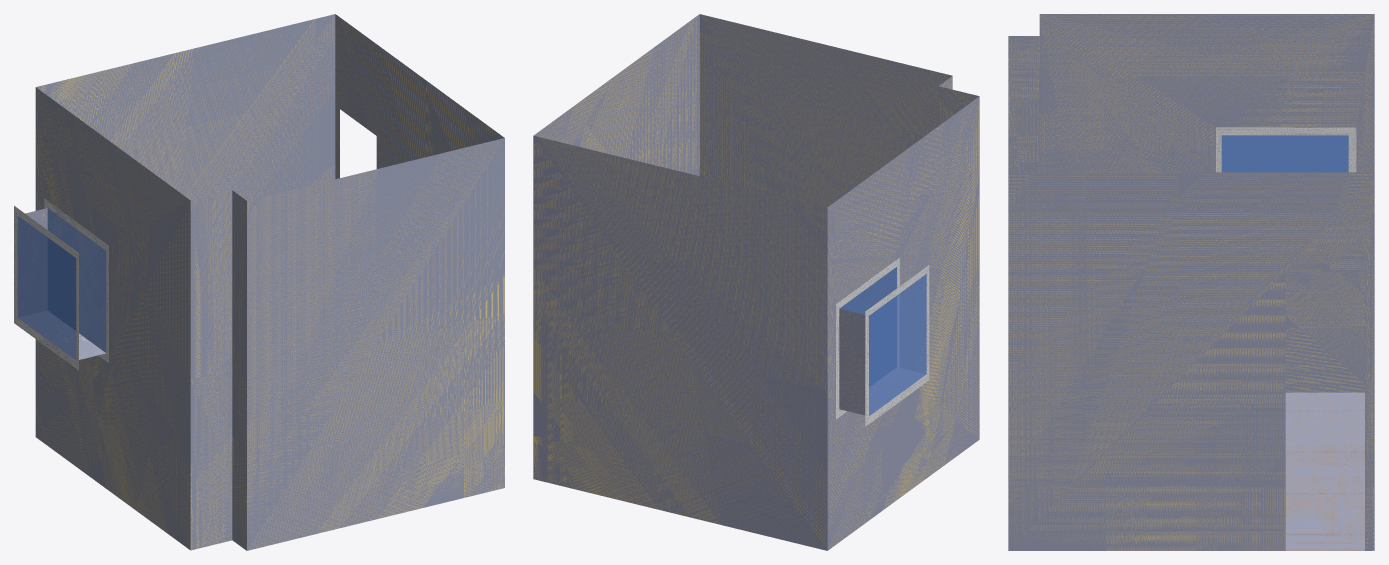
Rendered from DES043.obj.
The picture shows the model from 3 angles, left to right: view 1: azimuth 30°, elevation 25°; view 2: azimuth 150°, elevation 25°; view 3: azimuth 270°, elevation 25°; orthographic projection. The views are drawn at different scales.
Visible parts, largest first — view 1: Mesh5 DES043 Model, Mesh1 Group1 DES043 Model; view 2: Mesh5 DES043 Model, Mesh1 Group1 DES043 Model; view 3: Mesh5 DES043 Model, Mesh1 Group1 DES043 Model.
Boxes of the visible parts, left/top/right/bottom form: Mesh5 DES043 Model: left=35, top=14, right=504, bottom=550; Mesh1 Group1 DES043 Model: left=14, top=198, right=108, bottom=370; Mesh5 DES043 Model: left=533, top=14, right=979, bottom=550; Mesh1 Group1 DES043 Model: left=836, top=258, right=929, bottom=426; Mesh5 DES043 Model: left=1008, top=14, right=1374, bottom=550; Mesh1 Group1 DES043 Model: left=1216, top=127, right=1356, bottom=172.
Bounding box in the file's own units: 2.96 × 3 × 2.63.
6 materials, 2 textured.
